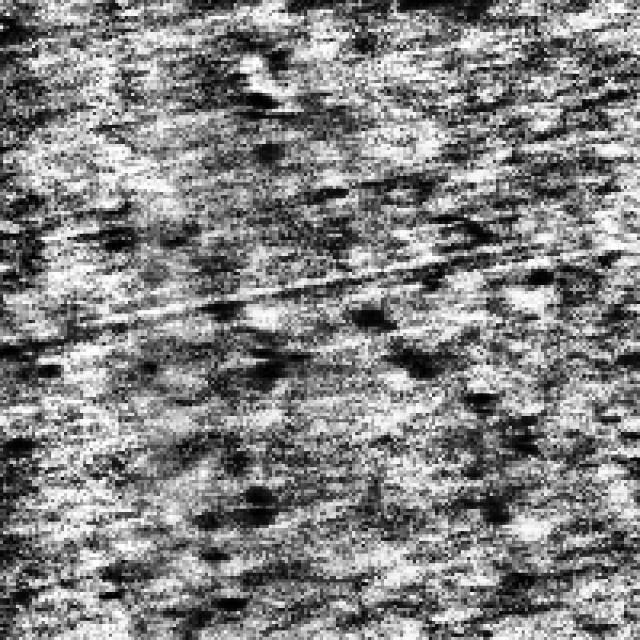Crazing: (323, 212, 560, 444), (154, 333, 298, 592), (211, 55, 352, 246)
